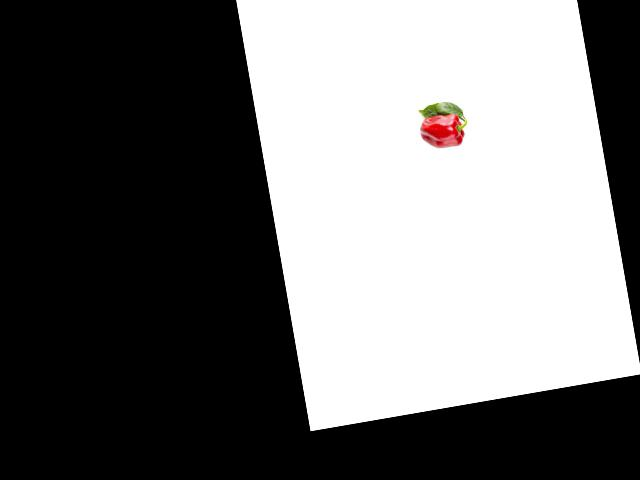bell_pepper: (415, 108, 471, 156)
